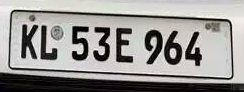3: (93, 26, 112, 62)
4: (183, 30, 205, 67)
5: (71, 23, 90, 61)
6: (163, 28, 184, 66)
9: (143, 27, 163, 65)
E: (115, 26, 135, 65)
K: (20, 21, 38, 61)
L: (39, 23, 59, 61)
